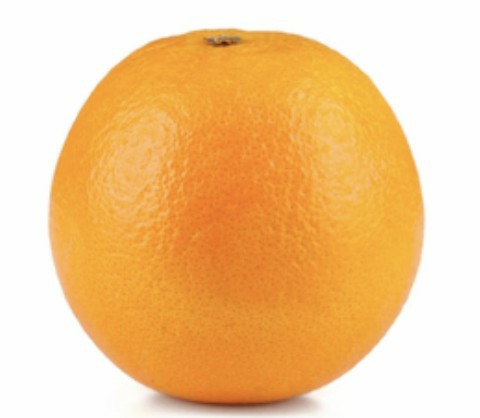fresh_orange: (51, 28, 427, 403)
